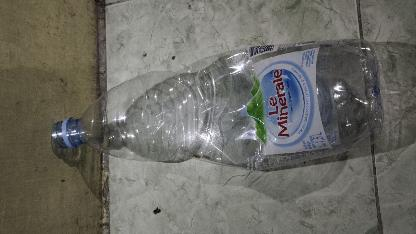Plastic Bottle: (52, 39, 385, 172)
